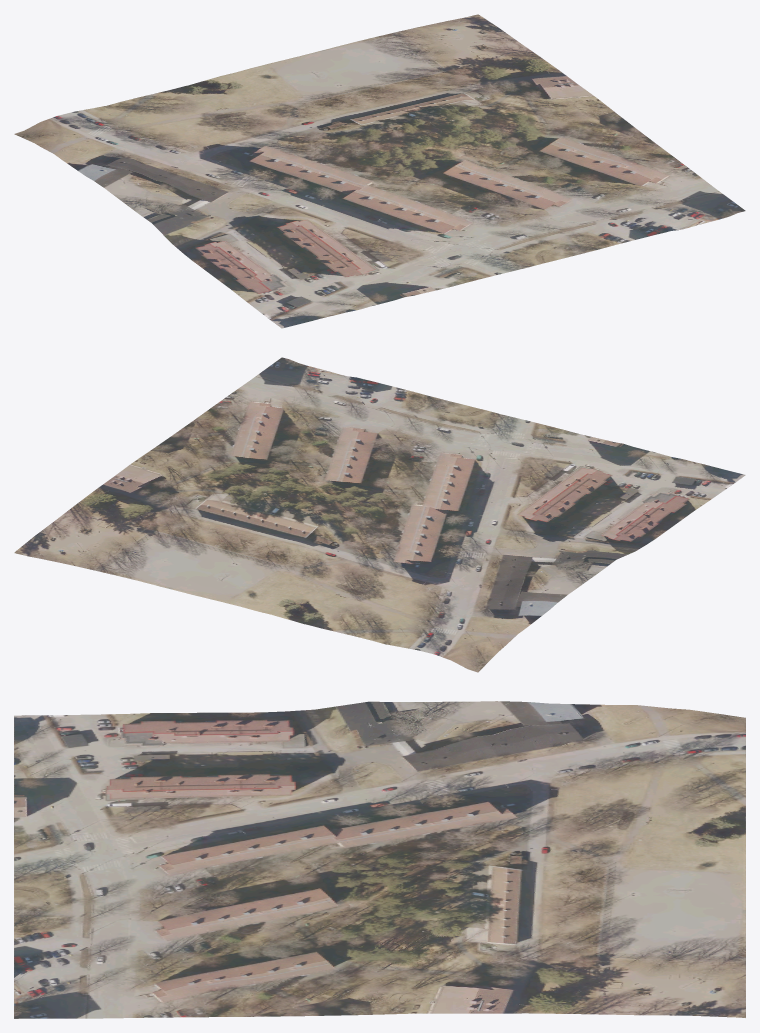
File: CM_Terrain_24489025_6821432.fbx
The picture shows the model from 3 angles, top to bottom: view 1: azimuth 30°, elevation 25°; view 2: azimuth 150°, elevation 25°; view 3: azimuth 270°, elevation 25°; orthographic projection. The views are drawn at different scales.
Visible parts, largest first — view 1: CM_Terrain_24489025_6821432_LOD0; view 2: CM_Terrain_24489025_6821432_LOD0; view 3: CM_Terrain_24489025_6821432_LOD0.
Part boxes in pixels (left/top/right/bottom): CM_Terrain_24489025_6821432_LOD0: left=14, top=14, right=745, bottom=328; CM_Terrain_24489025_6821432_LOD0: left=14, top=357, right=745, bottom=672; CM_Terrain_24489025_6821432_LOD0: left=14, top=701, right=745, bottom=1018.
Size of what is drawn, in the model's own units: 205 by 7.51 by 205.
